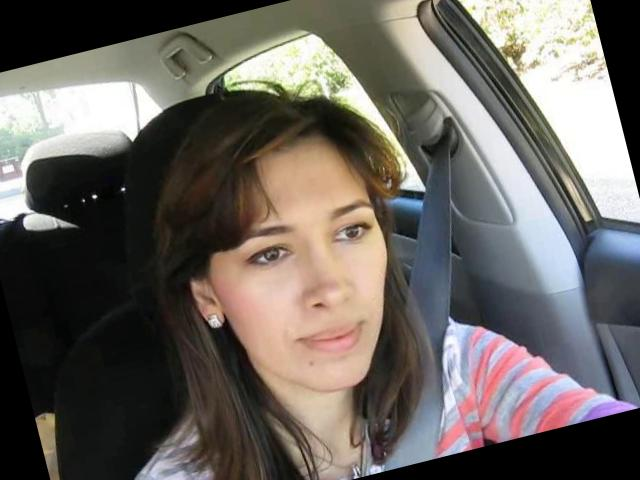eye_open: (238, 234, 300, 277), (326, 214, 378, 253)
face: (202, 176, 422, 416)
